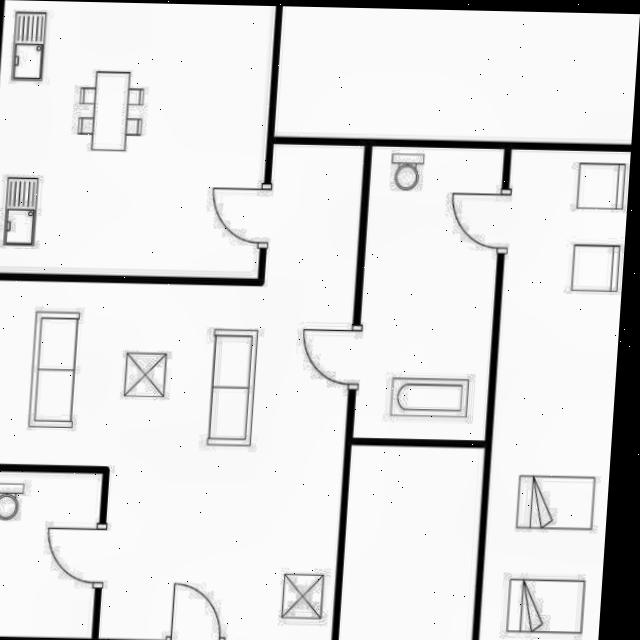room: (0, 141, 364, 640), (0, 0, 274, 278), (478, 144, 631, 640), (352, 140, 503, 445), (0, 472, 102, 637)
